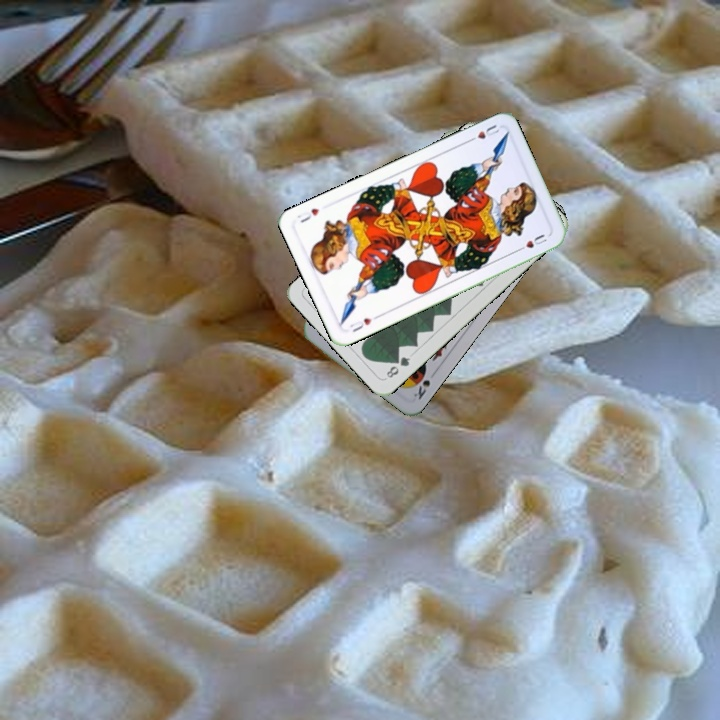G8: (382, 352, 413, 381)
HU: (464, 120, 502, 145), (346, 311, 382, 335)
SK: (409, 376, 433, 402)
